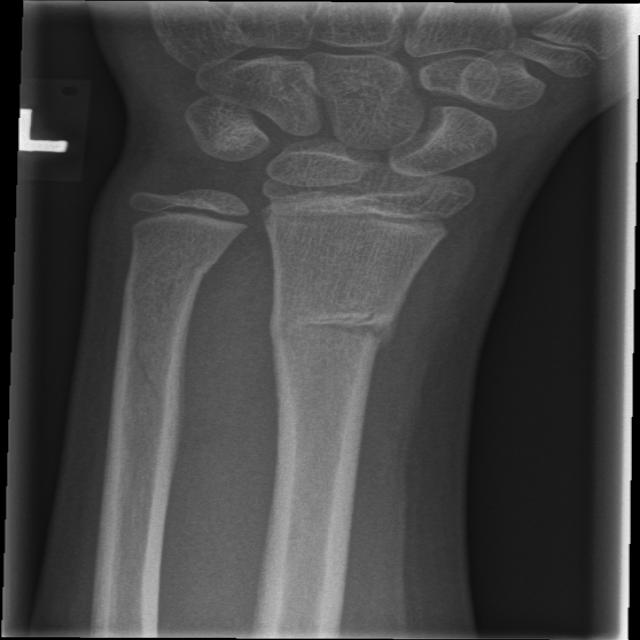radius fracture: (287, 268, 411, 409)
